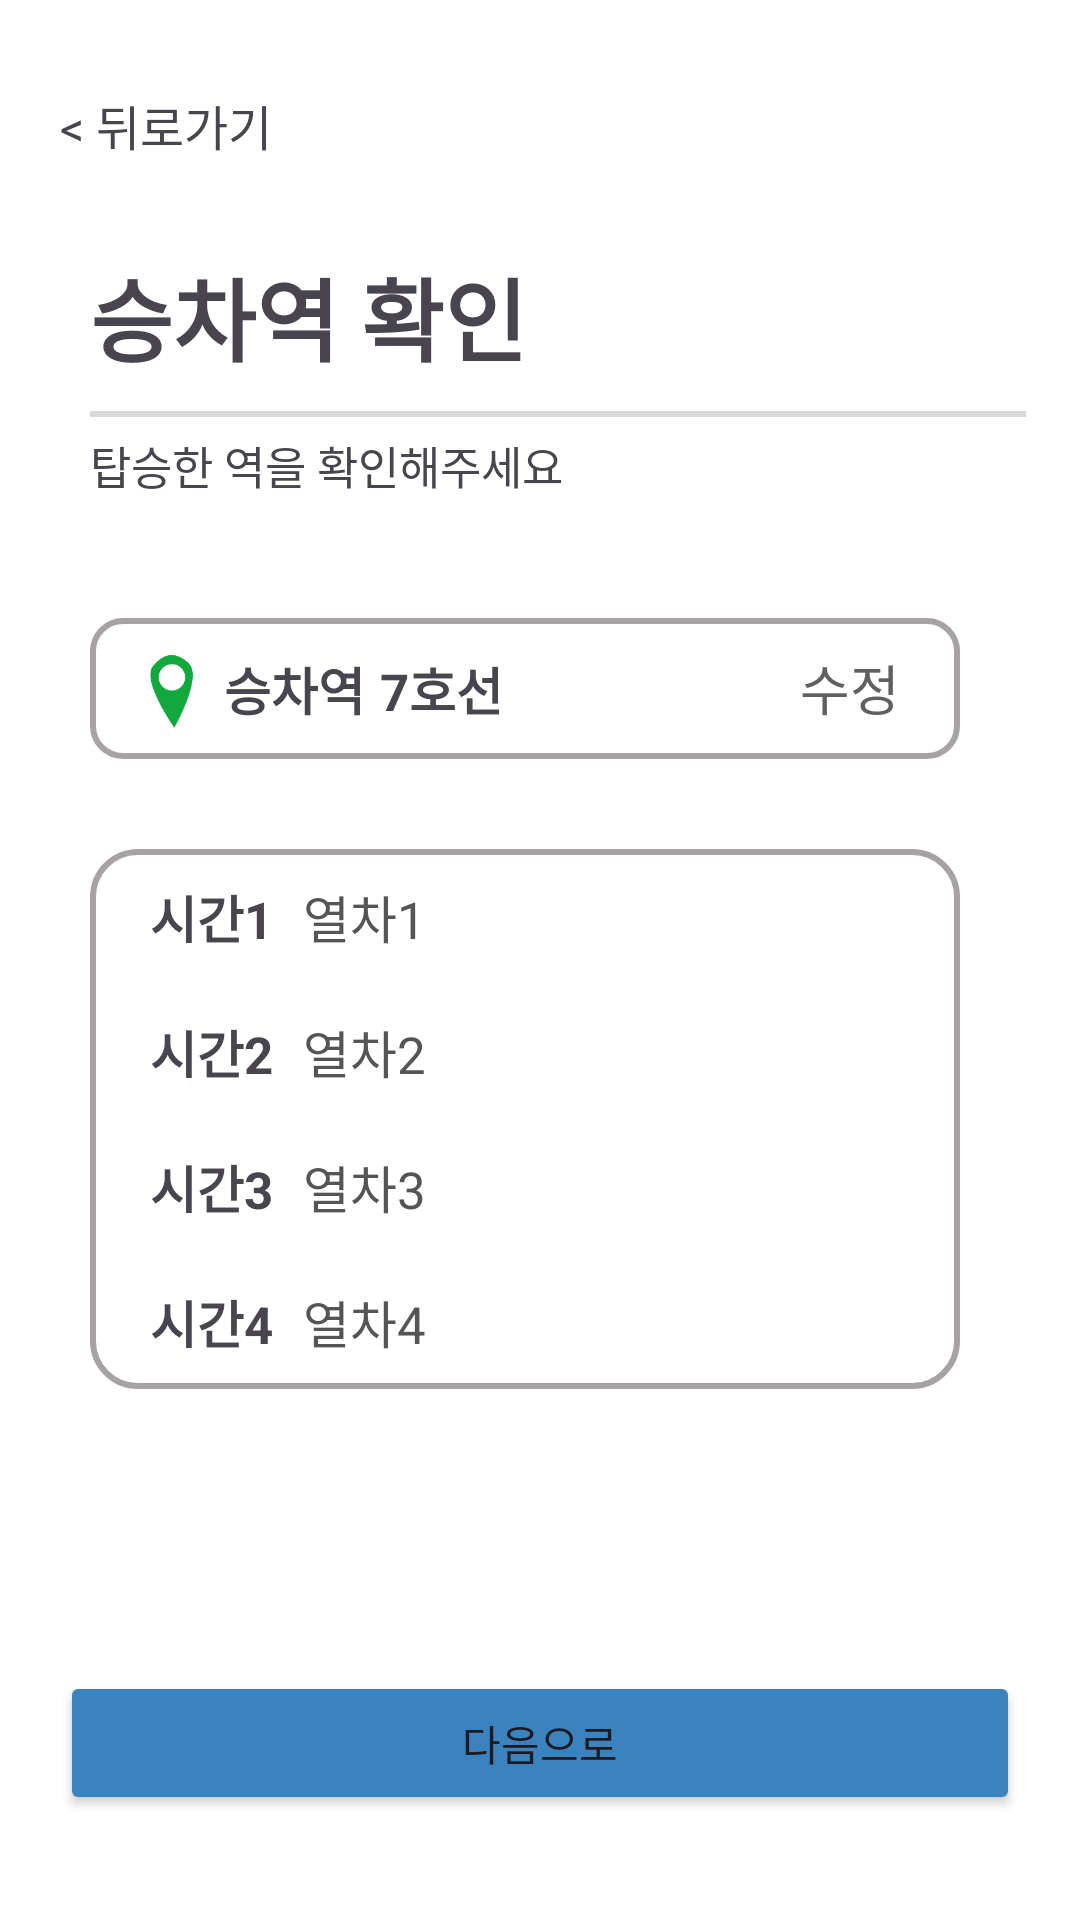

Icon click points for this 1080x1920 phone screenshot, format [x,y]:
departure pin: [171,691]
